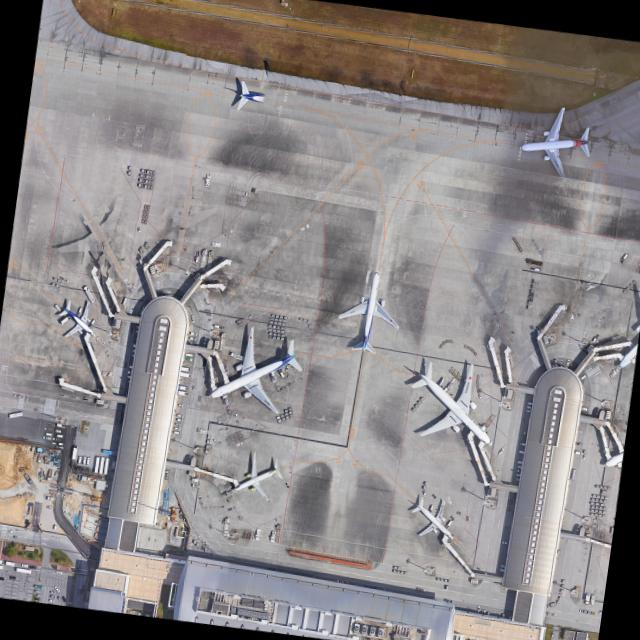large-vehicle: (22, 472, 33, 486), (8, 409, 23, 419), (70, 445, 77, 461), (27, 502, 33, 515), (45, 495, 54, 503), (180, 366, 190, 372), (184, 352, 193, 358), (41, 435, 50, 441), (85, 456, 90, 466), (81, 455, 86, 465), (76, 455, 81, 465), (516, 449, 524, 455), (581, 406, 588, 412), (188, 336, 195, 342), (575, 441, 582, 447), (574, 450, 581, 456), (54, 428, 61, 434), (564, 359, 569, 367), (55, 433, 63, 438), (515, 459, 522, 464), (189, 332, 197, 336), (190, 315, 194, 323), (524, 408, 530, 413), (519, 442, 525, 447), (497, 568, 503, 573), (173, 431, 180, 435), (526, 401, 531, 406), (526, 405, 531, 409), (559, 360, 562, 366)
plane: (378, 316, 519, 478), (201, 299, 321, 446), (326, 269, 411, 364), (516, 95, 598, 186), (395, 475, 470, 560), (227, 432, 294, 514), (47, 286, 105, 353), (234, 80, 281, 116)
small-vehicle: (52, 585, 60, 593), (60, 595, 67, 604), (33, 588, 41, 594), (28, 564, 36, 570), (54, 570, 63, 575), (173, 425, 180, 431), (55, 595, 61, 602), (33, 596, 40, 602), (20, 563, 27, 569), (134, 324, 141, 330), (125, 374, 132, 380), (549, 631, 554, 639), (176, 403, 184, 408), (51, 523, 56, 531), (7, 575, 15, 580), (44, 431, 52, 436), (174, 421, 180, 427), (501, 540, 508, 545), (176, 413, 183, 418), (11, 534, 18, 539), (45, 505, 52, 510), (133, 329, 140, 334), (36, 584, 42, 589), (130, 353, 136, 358), (175, 418, 182, 422), (6, 530, 13, 534), (47, 599, 54, 603), (49, 590, 54, 595), (48, 595, 54, 599), (35, 593, 41, 597), (0, 576, 4, 582), (50, 441, 56, 445), (57, 442, 63, 446), (51, 437, 57, 441)
